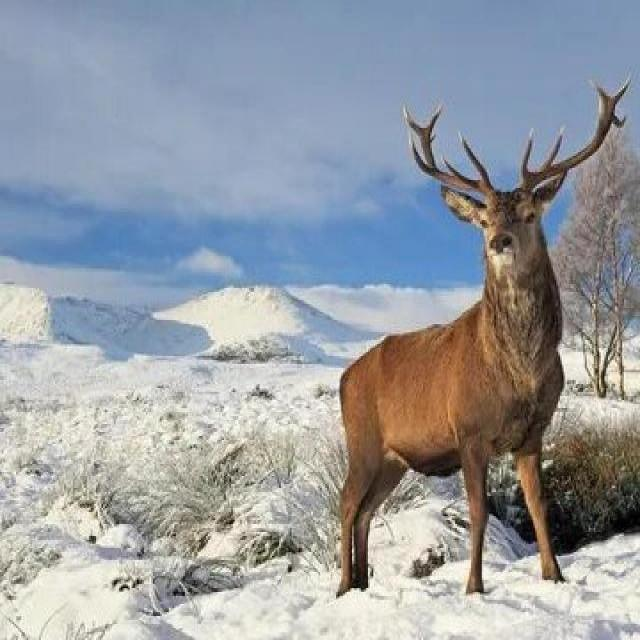deer: (298, 125, 630, 566)
